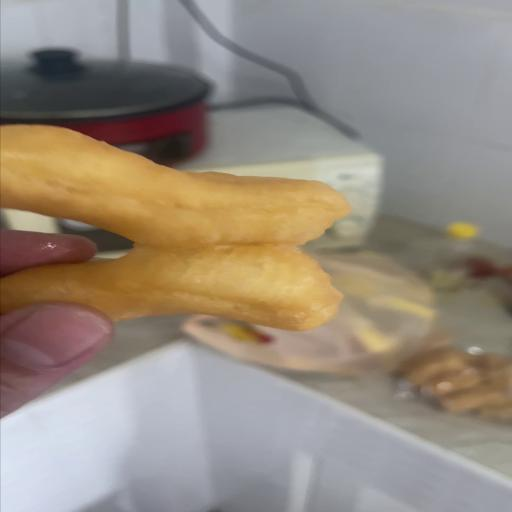street_golden_good: (0, 121, 348, 329)
